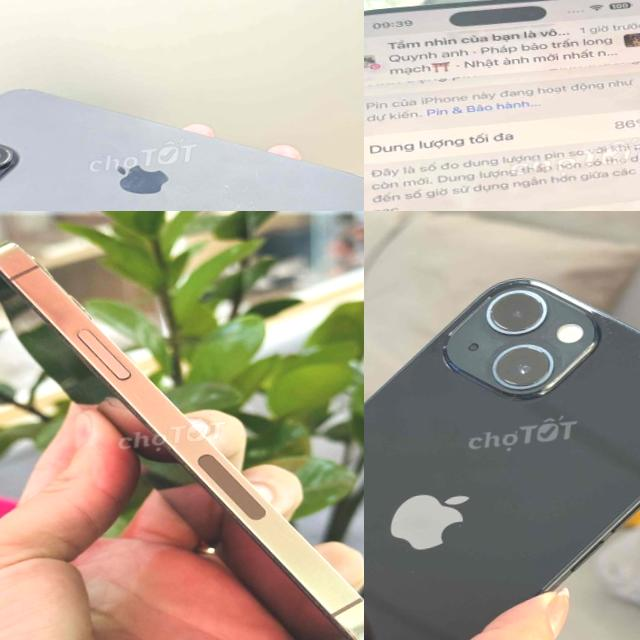gen_12_13: (0, 211, 364, 640), (364, 249, 640, 640)
gen_15: (0, 32, 364, 211), (364, 0, 640, 211)
